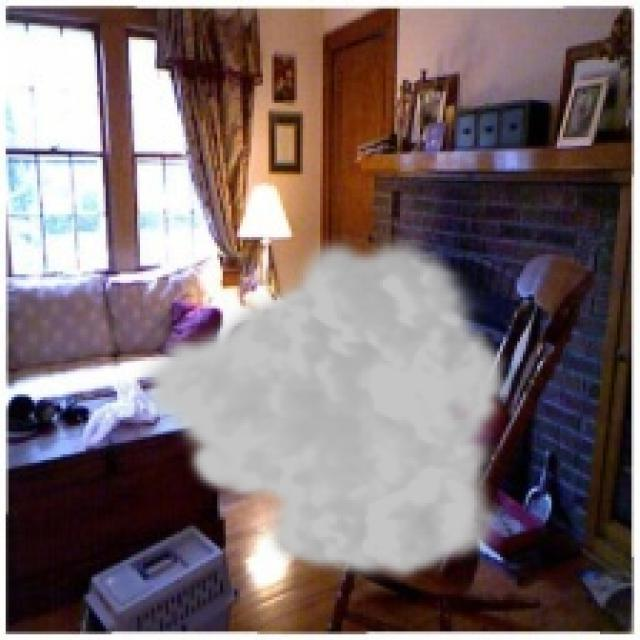Smoke: (134, 228, 512, 586)
